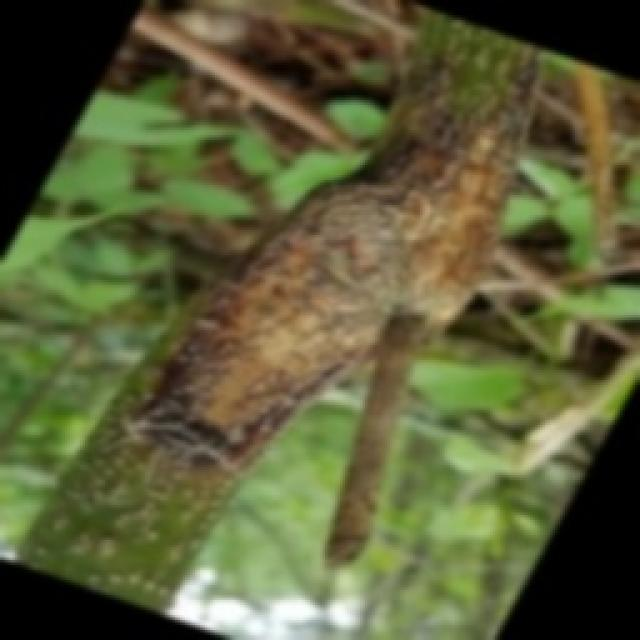Golden_canker: (13, 2, 545, 610)
